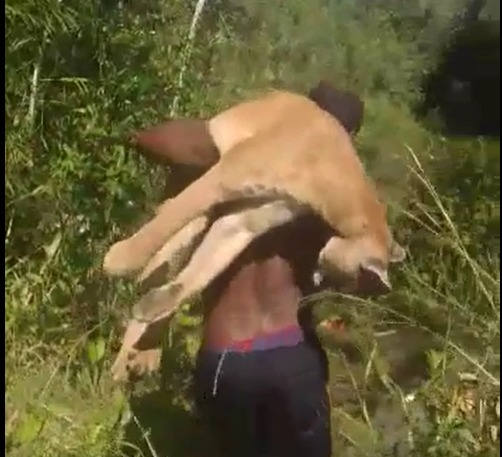OncaParda: (103, 88, 408, 323)
